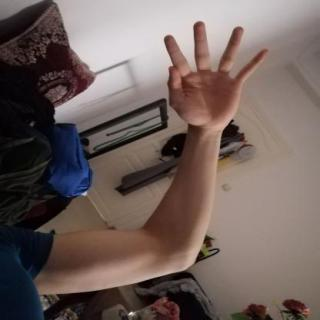SHEEN: (154, 15, 275, 137)
